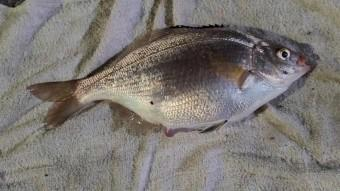fish: (27, 25, 311, 137)
